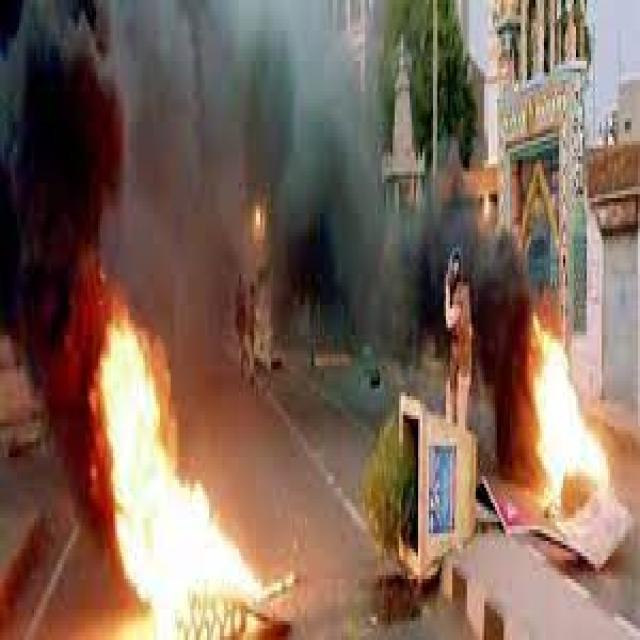Fire: (94, 322, 266, 634), (527, 318, 613, 518), (252, 194, 268, 246)
Smoke: (0, 0, 376, 333), (380, 171, 528, 367), (28, 336, 93, 508), (493, 365, 529, 485)
